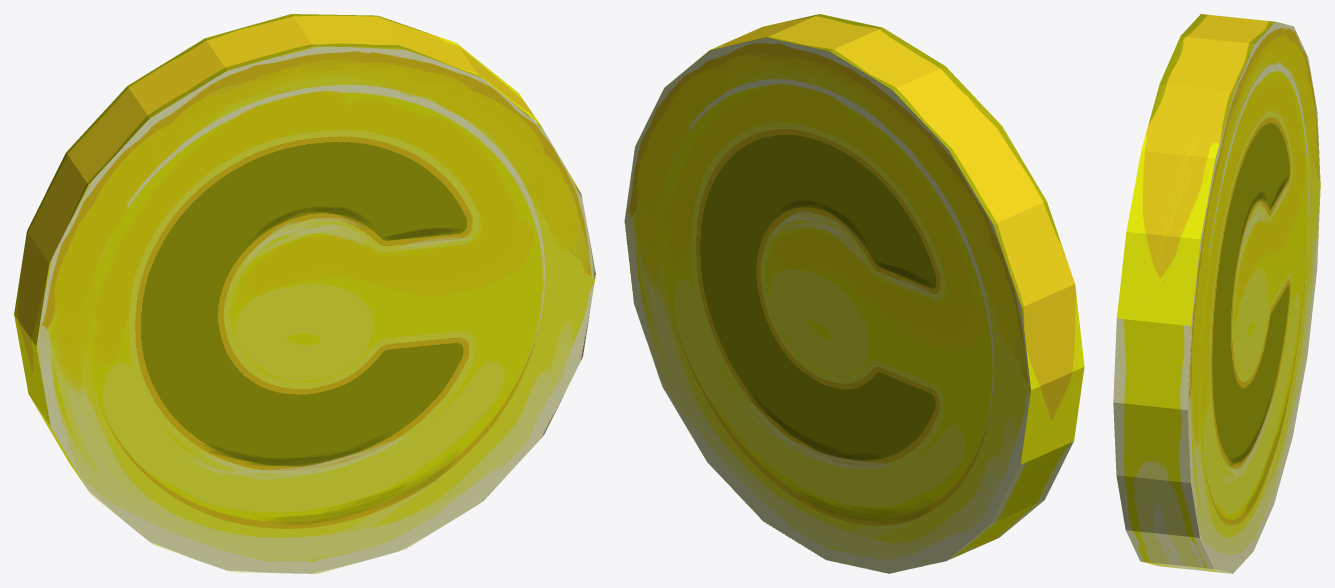
File: coin.fbx
The picture shows the model from 3 angles, left to right: view 1: azimuth 30°, elevation 25°; view 2: azimuth 150°, elevation 25°; view 3: azimuth 270°, elevation 25°; orthographic projection. The views are drawn at different scales.
Visible parts, largest first — view 1: Coin; view 2: Coin; view 3: Coin.
Part boxes in pixels (x1,y1,x2,y2): Coin: (14,14,595,573); Coin: (624,14,1084,573); Coin: (1113,14,1320,573).
Size of the model in its own units: 502 by 500 by 186.
1 material, 1 textured.
